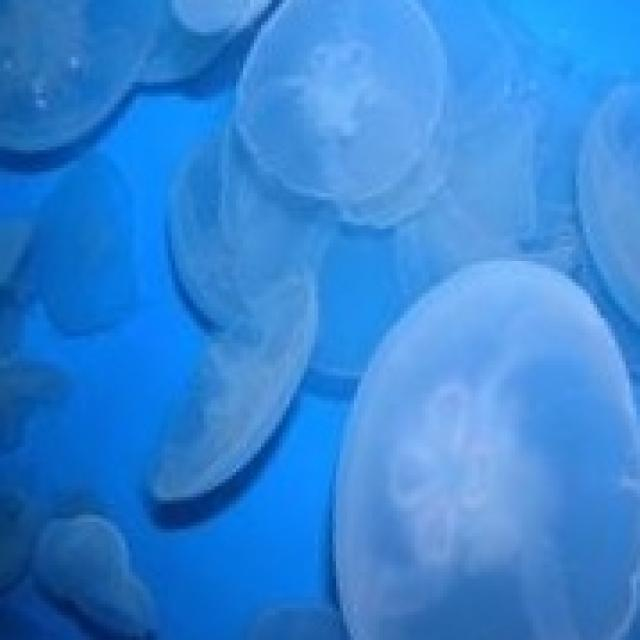Moon-jellyfish: (311, 254, 637, 636), (247, 0, 450, 204)
